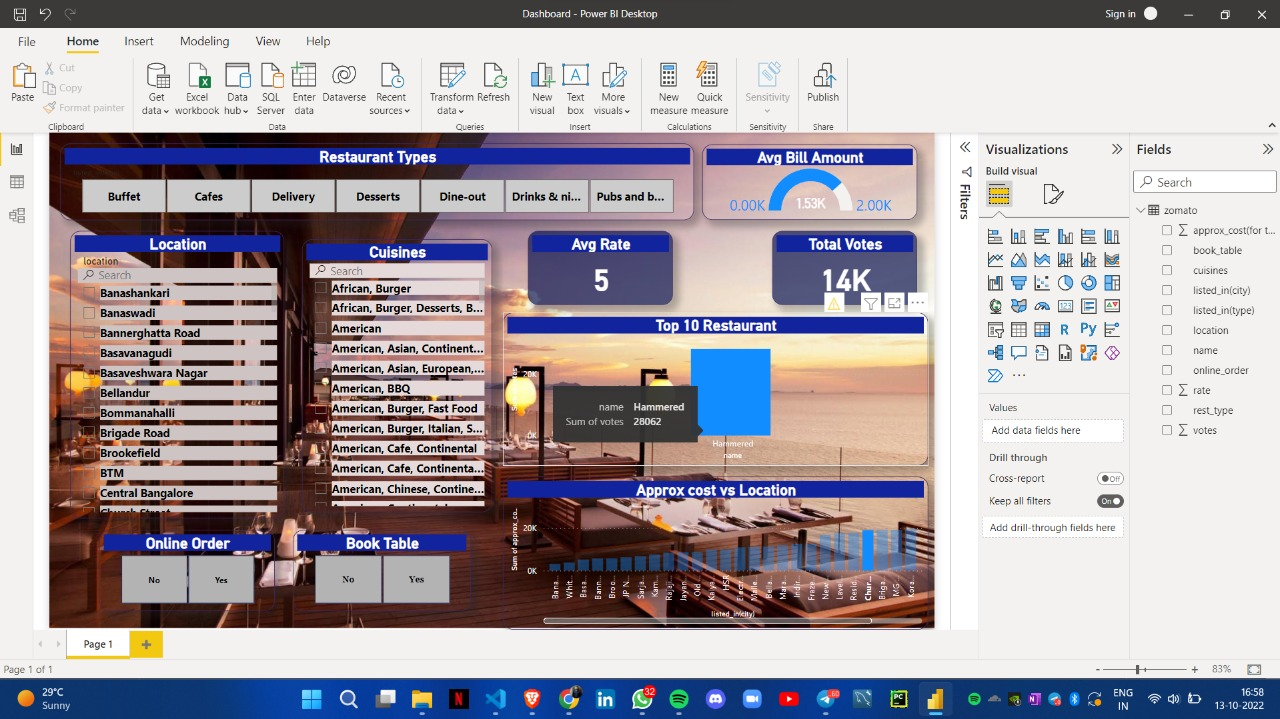

Layout of this report page (visuals, bound fields, positions):
{"tool":"powerbi","page":{"name":"Page 1","canvas":[1280,720],"ordinal":0},"visuals":[{"type":"gauge","title":"Avg Bill Amount","fields":{"Y":["Avg(zomato.approx_cost(for two people))"]},"box":[944.3,16.9,311.2,109.7],"z":0},{"type":"slicer","title":"Restaurant Types","fields":{"Values":["zomato.listed_in(type)"]},"box":[15.9,15.9,917.1,111.3],"z":1000},{"type":"card","title":"Total Votes","fields":{"Values":["Sum(zomato.approx_cost(for two people))"]},"box":[1045.6,142.3,209.8,107.3],"z":2000},{"type":"card","title":"Avg Rate","fields":{"Values":["Avg(zomato.rate)"]},"box":[692.3,142.3,209.8,107.3],"z":3000},{"type":"columnChart","title":"Top 10 Restaurant","fields":{"Category":["zomato.name"],"Y":["Sum(zomato.votes)"]},"box":[656.1,260.5,615.1,221.9],"z":4000},{"type":"slicer","title":"Online Order","fields":{"Values":["zomato.online_order"]},"box":[72,575.6,253.7,117.4],"z":5000},{"type":"slicer","title":"Book Table","fields":{"Values":["zomato.book_table"]},"box":[352.2,575.6,257.5,117.4],"z":6000},{"type":"slicer","title":"Location","fields":{"Values":["zomato.location"]},"box":[30.2,142.3,309.9,416.1],"z":7000},{"type":"slicer","title":"Cuisines","fields":{"Values":["zomato.cuisines"]},"box":[365.4,154.4,275,395.6],"z":8000},{"type":"columnChart","title":"Approx cost vs Location","fields":{"Category":["zomato.listed_in(city)"],"Y":["Sum(zomato.approx_cost(for two people))"]},"box":[656.1,498.1,615.1,221.9],"z":8001}]}

Visuals, with their boxes on the page's 1280x720 design canvas (x1, y1, x2, y2). These are canvas units, not pixel positions in the 1280x719 screenshot, which may show the page scaled, cropped or inside an application window:
"Avg Bill Amount" gauge: locate(944, 17, 1256, 127)
"Restaurant Types" slicer: locate(16, 16, 933, 127)
"Total Votes" card: locate(1046, 142, 1255, 250)
"Avg Rate" card: locate(692, 142, 902, 250)
"Top 10 Restaurant" columnChart: locate(656, 260, 1271, 482)
"Online Order" slicer: locate(72, 576, 326, 693)
"Book Table" slicer: locate(352, 576, 610, 693)
"Location" slicer: locate(30, 142, 340, 558)
"Cuisines" slicer: locate(365, 154, 640, 550)
"Approx cost vs Location" columnChart: locate(656, 498, 1271, 720)
